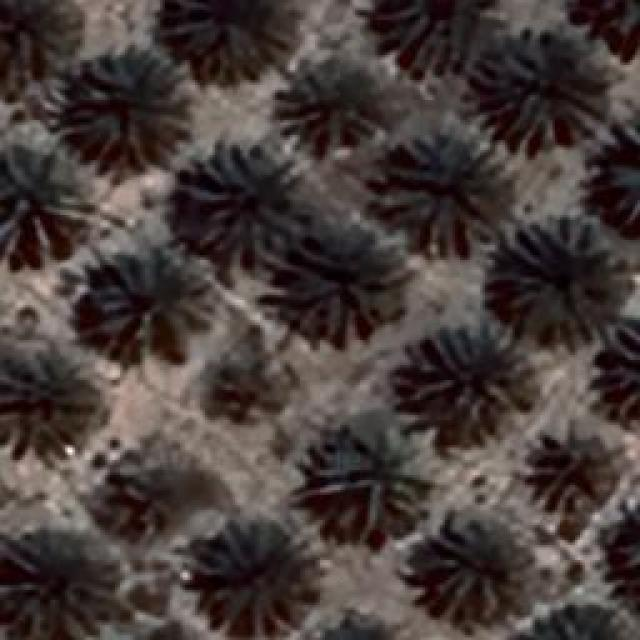PalmTree: (103, 25, 568, 627), (488, 215, 630, 350), (178, 135, 318, 270), (380, 122, 515, 260), (478, 25, 608, 150), (310, 418, 440, 540), (75, 48, 195, 172), (92, 240, 218, 358), (397, 320, 535, 422), (200, 520, 318, 638), (0, 530, 112, 637), (414, 515, 528, 620), (0, 345, 102, 460), (0, 135, 88, 263), (162, 0, 300, 80), (295, 234, 393, 342), (520, 422, 612, 510), (0, 0, 92, 85), (288, 57, 376, 145), (374, 0, 488, 65), (205, 341, 286, 428), (95, 461, 176, 548), (562, 0, 638, 67), (595, 128, 640, 233), (596, 508, 640, 604), (596, 331, 640, 427), (303, 623, 407, 640)
